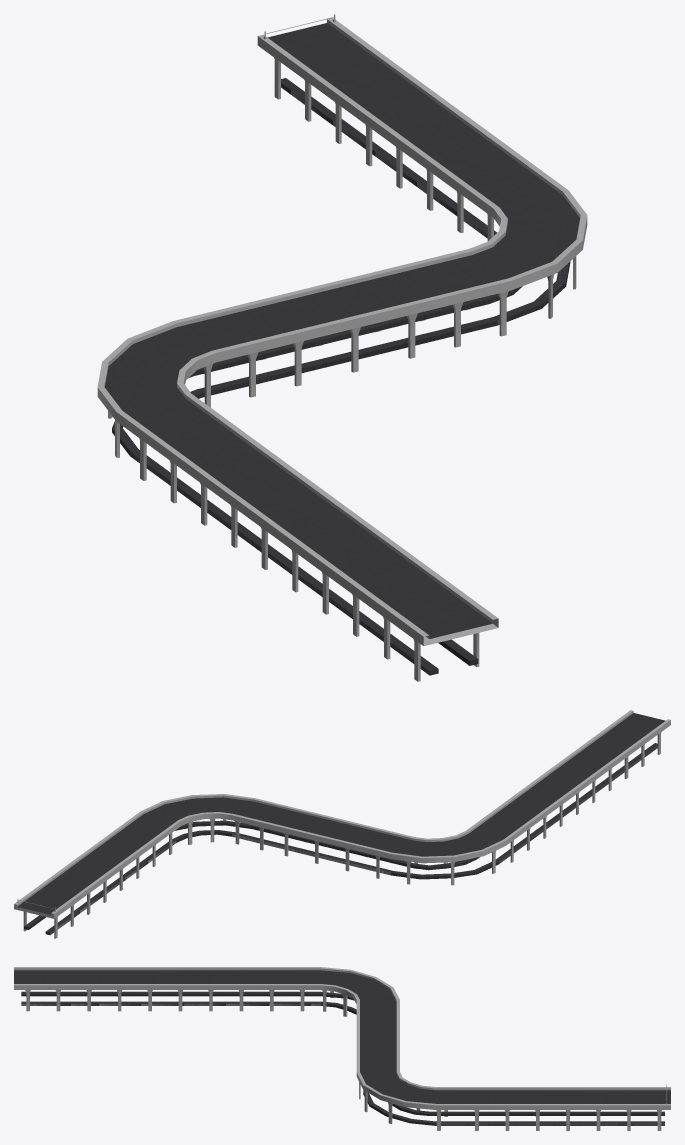
Rendered from rail_c.glb.
3 renders of one model, top to bottom at view 1: azimuth 30°, elevation 25°; view 2: azimuth 150°, elevation 25°; view 3: azimuth 270°, elevation 25°, orthographic. The views are drawn at different scales.
Parts seen in each view (by area): view 1: rail_c; view 2: rail_c; view 3: rail_c.
Boxes of the visible parts, x1,y1,x2,y2 form: rail_c: (97,14,587,681); rail_c: (14,710,670,938); rail_c: (14,967,670,1130).
Size of the model in its own units: 12.49 by 1.32 by 25.11.
Materials: 2 (1 with a texture image).
